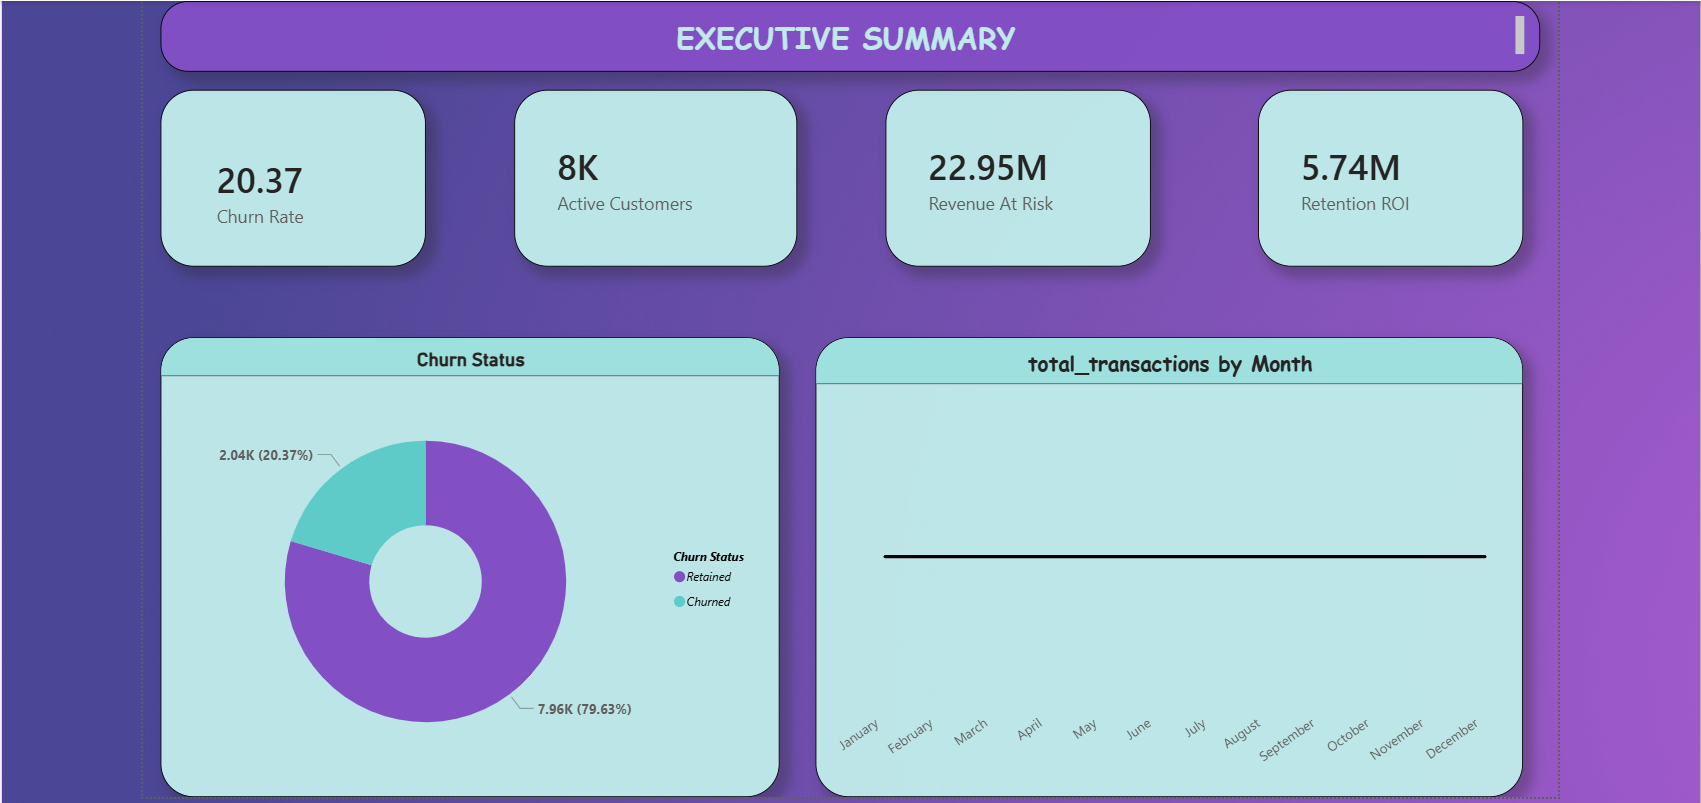

The dashboard page shown, as its layout file describes it:
{"tool":"powerbi","page":{"name":"Executive Summary","canvas":[1280,720],"ordinal":0},"visuals":[{"type":"cardVisual","fields":{"Data":["final_churn_dataset.Churn Rate"]},"box":[16,80,240,160],"z":0},{"type":"cardVisual","fields":{"Data":["final_churn_dataset.Active Customers"]},"box":[336,80,256,160],"z":1000},{"type":"cardVisual","fields":{"Data":["final_churn_dataset.Revenue At Risk"]},"box":[672,80,240,160],"z":2000},{"type":"cardVisual","fields":{"Data":["final_churn_dataset.Retention ROI"]},"box":[1008,80,240,160],"z":3000},{"type":"donutChart","title":"Churn Status","fields":{"Y":["CountNonNull(final_churn_dataset.customer_id)"],"Category":["final_churn_dataset.Churn Status"]},"box":[16,304,560,416],"z":4000},{"type":"lineChart","title":"total_transactions by Month","fields":{"Y":["Sum(final_churn_dataset.total_transactions)"],"Category":["monthly_transactions.month.Variation.Date Hierarchy.Month"]},"box":[608,304,640,416],"z":5000},{"type":"textbox","box":[16,0,1248,64],"z":6000}]}

Visuals, with their boxes in screenshot pixels (x1, y1, x2, y2):
cardVisual - final_churn_dataset.Churn Rate: box=[159, 88, 423, 264]
cardVisual - final_churn_dataset.Active Customers: box=[511, 88, 792, 264]
cardVisual - final_churn_dataset.Revenue At Risk: box=[880, 88, 1143, 264]
cardVisual - final_churn_dataset.Retention ROI: box=[1249, 88, 1512, 264]
"Churn Status" donutChart: box=[159, 334, 774, 791]
"total_transactions by Month" lineChart: box=[809, 334, 1512, 791]
textbox: box=[159, 0, 1530, 70]
